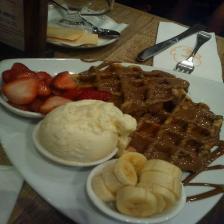ice cream: (32, 98, 135, 168)
waffles: (68, 58, 224, 170)
